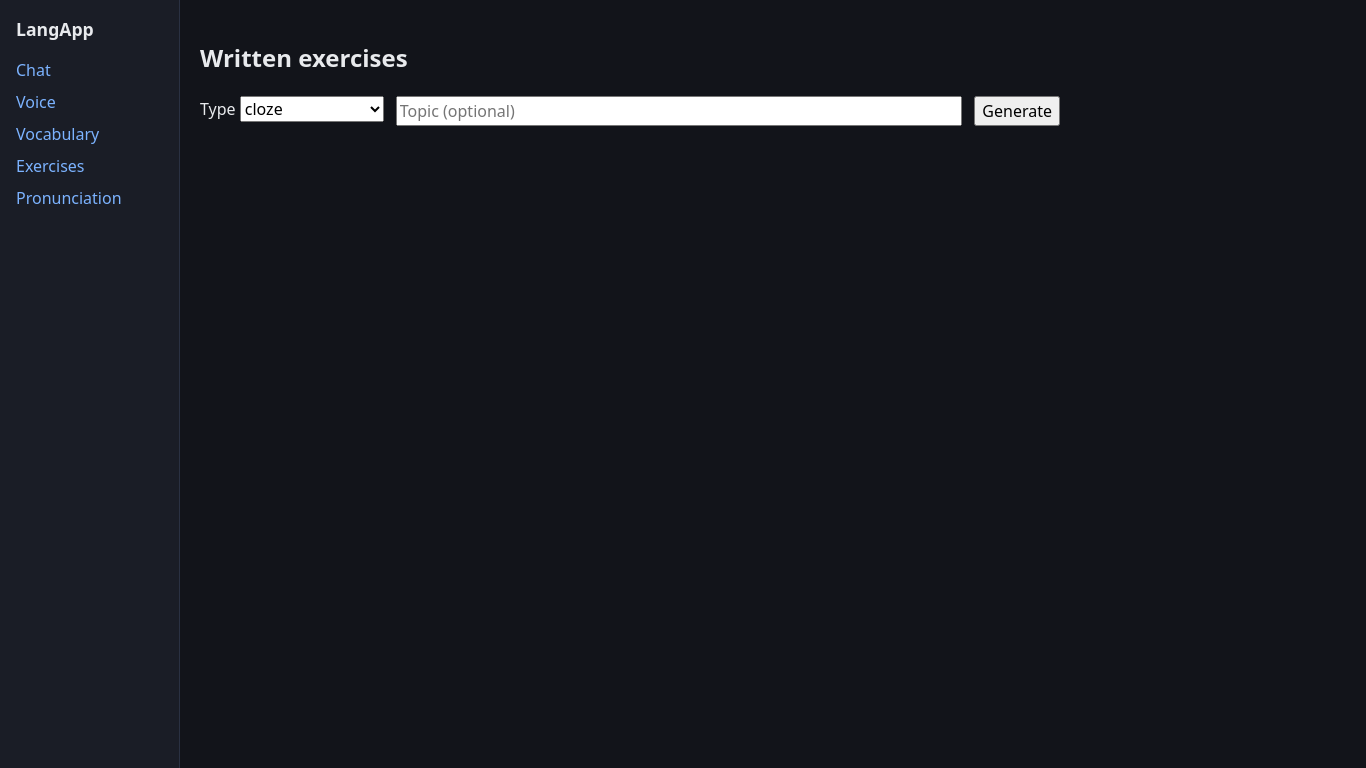
Scenario: ExercisePage › shows error when generate fails
The image size is (1366, 768).
Click the button "Generate".
click(1017, 111)  # box [974,96,1060,126]
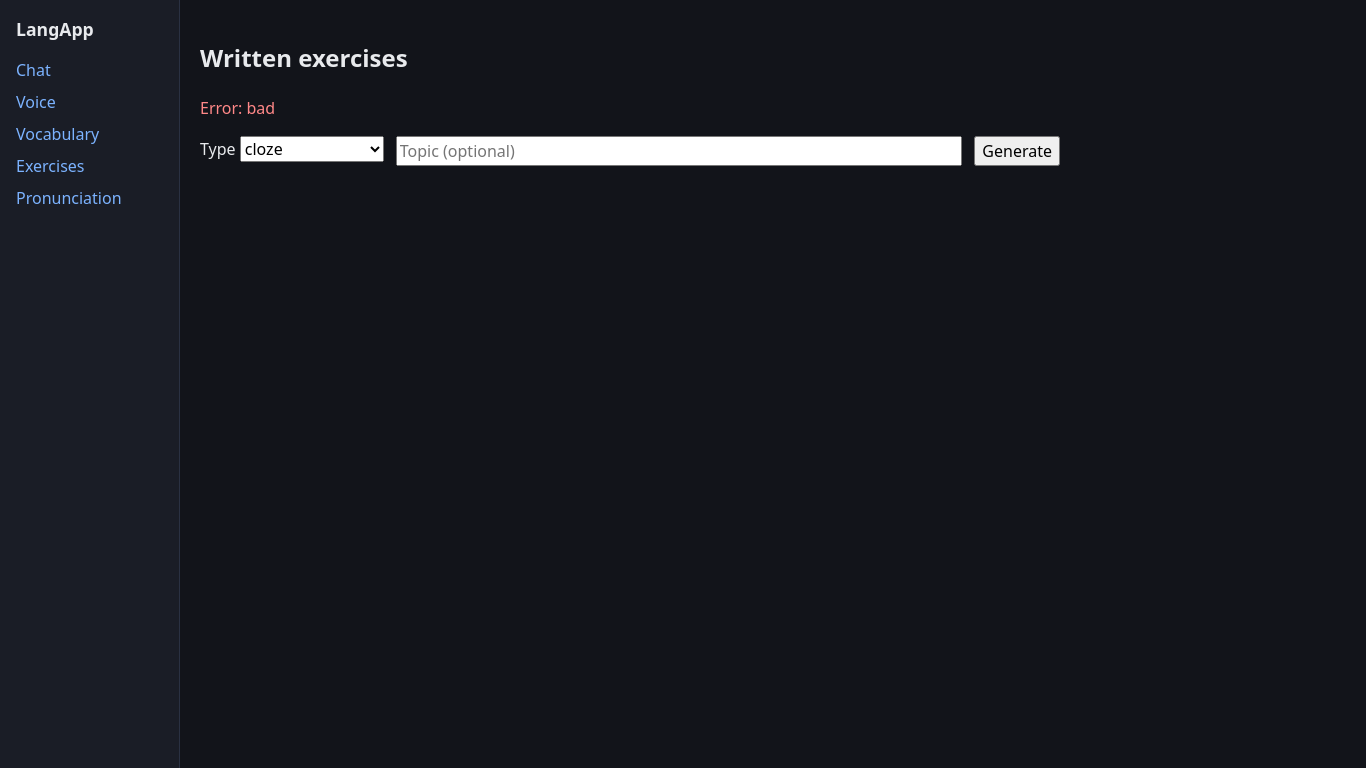
Now the text "Error: bad" is shown, box [200,97,275,119]
